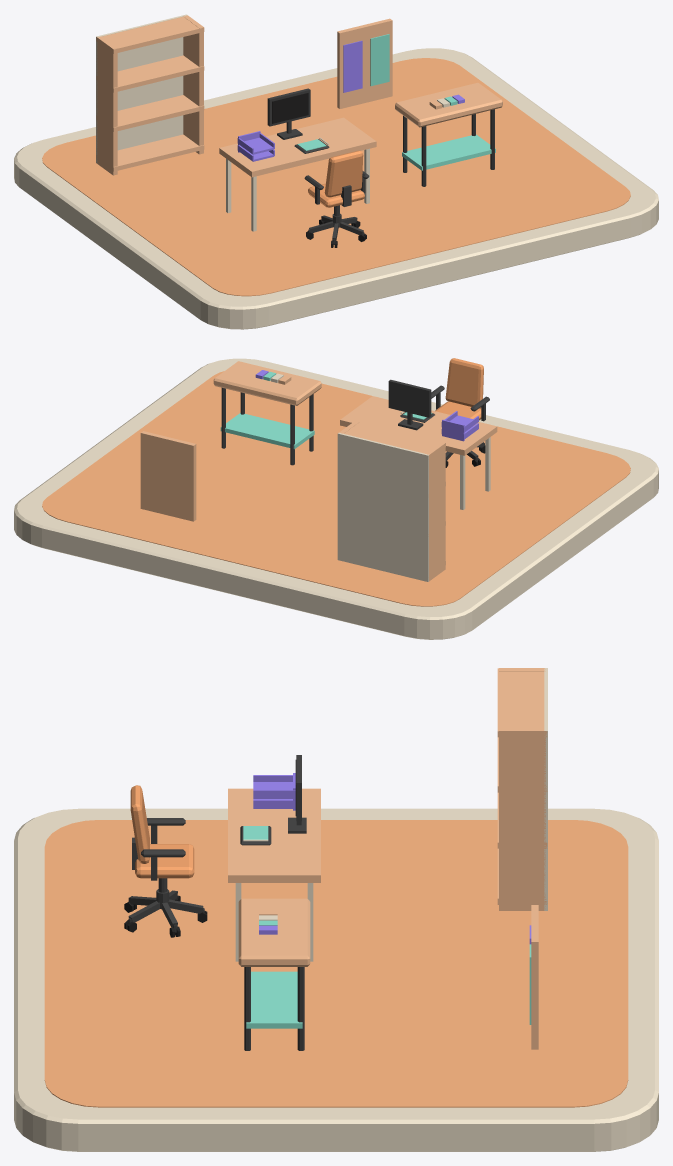
3 renders of one model, top to bottom at view 1: azimuth 30°, elevation 25°; view 2: azimuth 150°, elevation 25°; view 3: azimuth 270°, elevation 25°, orthographic. The views are drawn at different scales.
Visible parts, largest first — view 1: COM-02 Floor Surface, COM-01 Rounded Base Direct, Top, Back, COM-04_Chair_blender_direct, Design board, Side, Worktop, Side.001, Shelf.003, Lower shelf, Shelf (+5 smaller); view 2: COM-02 Floor Surface, COM-01 Rounded Base Direct, Back, Design board, Top, COM-04_Chair_blender_direct, Worktop, Side, Lower shelf, Frame, Shelf.003; view 3: COM-02 Floor Surface, COM-01 Rounded Base Direct, Side.001, Top, COM-04_Chair_blender_direct, Worktop, Shelf.003, Lower shelf, Design board, Back, Frame.
Part boxes in pixels (<box>): COM-02 Floor Surface: <box>42,58,630,296</box>; COM-01 Rounded Base Direct: <box>14,48,658,329</box>; Top: <box>219,117,376,231</box>; Back: <box>96,14,187,163</box>; COM-04_Chair_blender_direct: <box>304,150,369,247</box>; Design board: <box>337,18,392,108</box>; Side: <box>96,36,117,175</box>; Worktop: <box>395,82,502,127</box>; Side.001: <box>183,15,203,154</box>; Shelf.003: <box>96,16,204,53</box>; Lower shelf: <box>402,134,495,170</box>; Shelf: <box>96,134,204,171</box>; COM-02 Floor Surface: <box>42,371,630,606</box>; COM-01 Rounded Base Direct: <box>14,358,658,639</box>; Back: <box>337,432,428,581</box>; Design board: <box>140,431,196,521</box>; Top: <box>340,396,497,509</box>; COM-04_Chair_blender_direct: <box>431,358,489,467</box>; Worktop: <box>213,361,321,405</box>; Side: <box>425,442,445,581</box>; Lower shelf: <box>220,413,314,449</box>; Frame: <box>388,379,431,430</box>; Shelf.003: <box>344,421,445,459</box>; COM-02 Floor Surface: <box>44,820,628,1107</box>; COM-01 Rounded Base Direct: <box>14,808,658,1151</box>; Side.001: <box>499,728,545,910</box>; Top: <box>228,788,320,961</box>; COM-04_Chair_blender_direct: <box>124,785,207,937</box>; Worktop: <box>238,898,310,966</box>; Shelf.003: <box>497,668,547,737</box>; Lower shelf: <box>246,971,302,1028</box>; Design board: <box>531,905,538,1049</box>; Back: <box>544,668,547,910</box>; Frame: <box>288,755,306,833</box>.
Bounding box in the file's own units: 6 × 1.9 × 5.2.
Materials: 1 (1 with a texture image).
